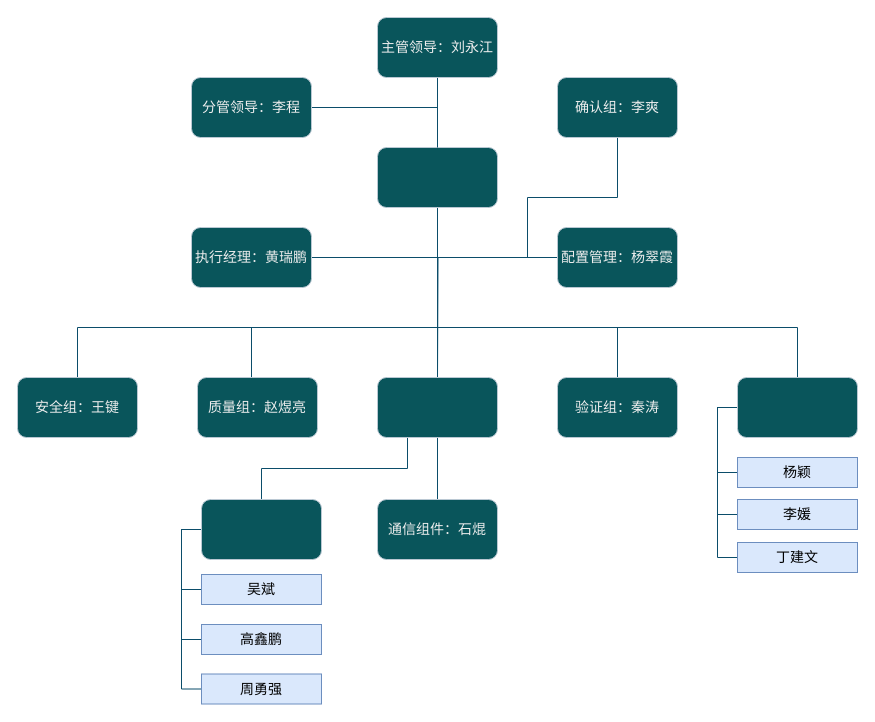
Image size: 875x722. Some labels were removed from this diagram. The centre of each missing label's shape, as x and y in pixels:
"应用程序：张新锐" belongs at pixel 261 529.
"测试组" belongs at pixel 797 407.
"设计组：张新锐" belongs at pixel 437 407.
"项目经理：袁希文" belongs at pixel 437 177.
